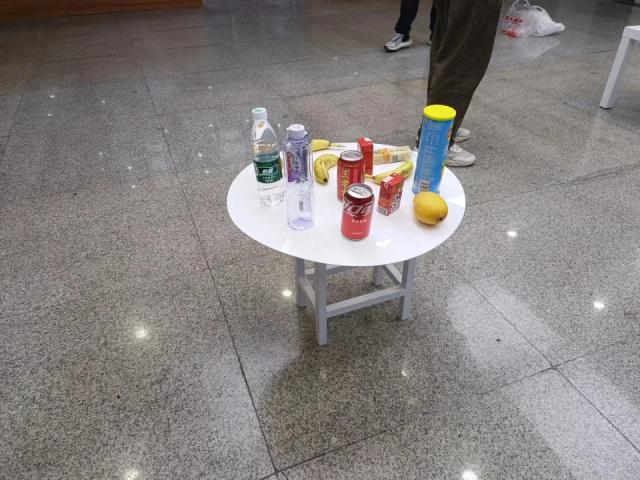Canned_drinks: (340, 181, 375, 245)
bottle: (247, 107, 287, 206), (283, 123, 316, 230)
cylinder: (413, 104, 455, 196)
drink_box: (376, 172, 404, 217), (357, 138, 374, 176)
